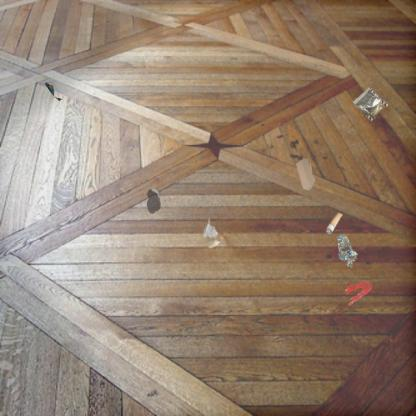dirty: (351, 85, 388, 122), (336, 233, 360, 268), (294, 156, 317, 192), (201, 217, 222, 250), (324, 210, 342, 236), (43, 80, 62, 103)
liquid: (344, 279, 372, 307), (146, 188, 162, 214)
